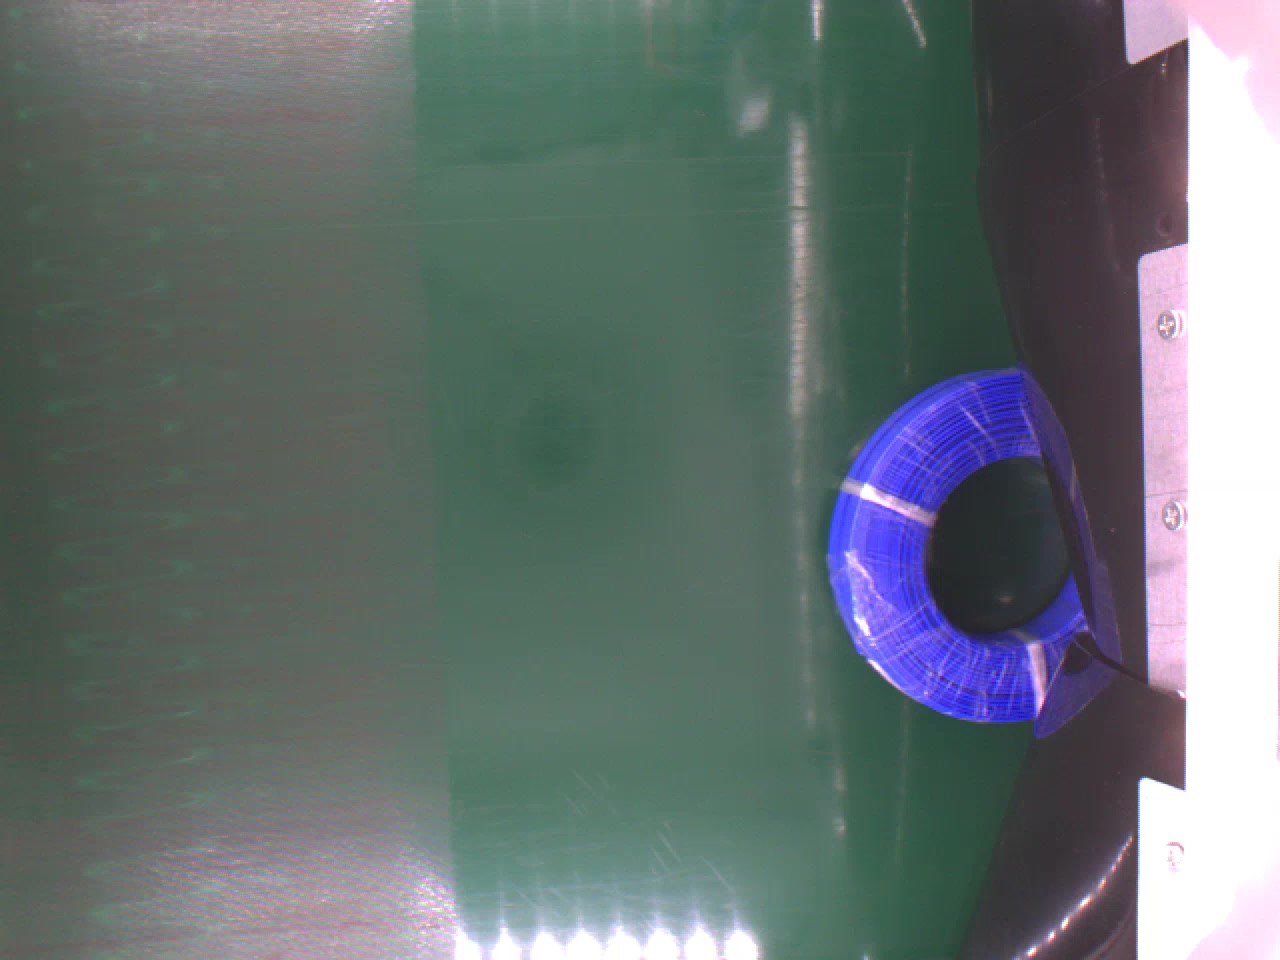blue: (821, 363, 1087, 724)
